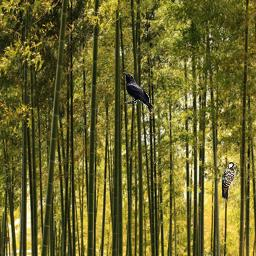Crow: (123, 72, 154, 112)
Woodpecker: (222, 162, 237, 202)
